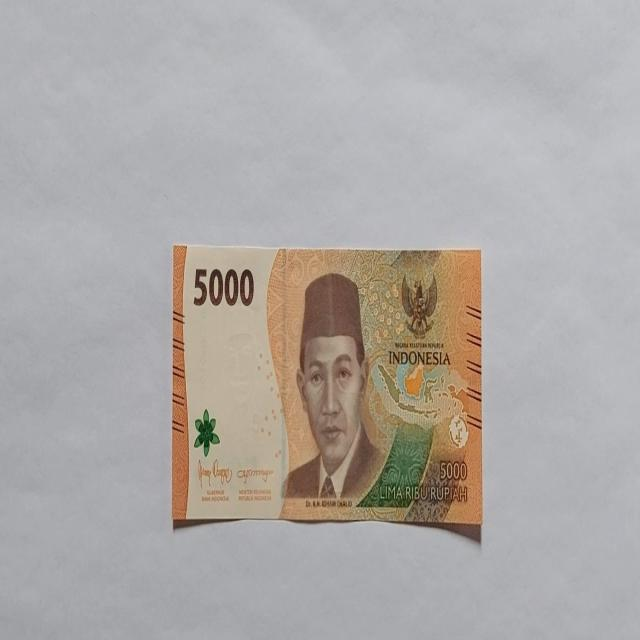lima ribu rupiah: (171, 242, 483, 536), (279, 271, 386, 508)
